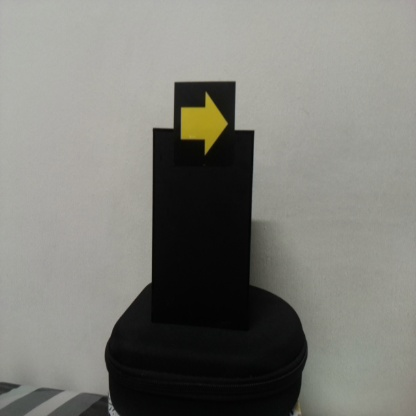id_3: (176, 82, 234, 164)
